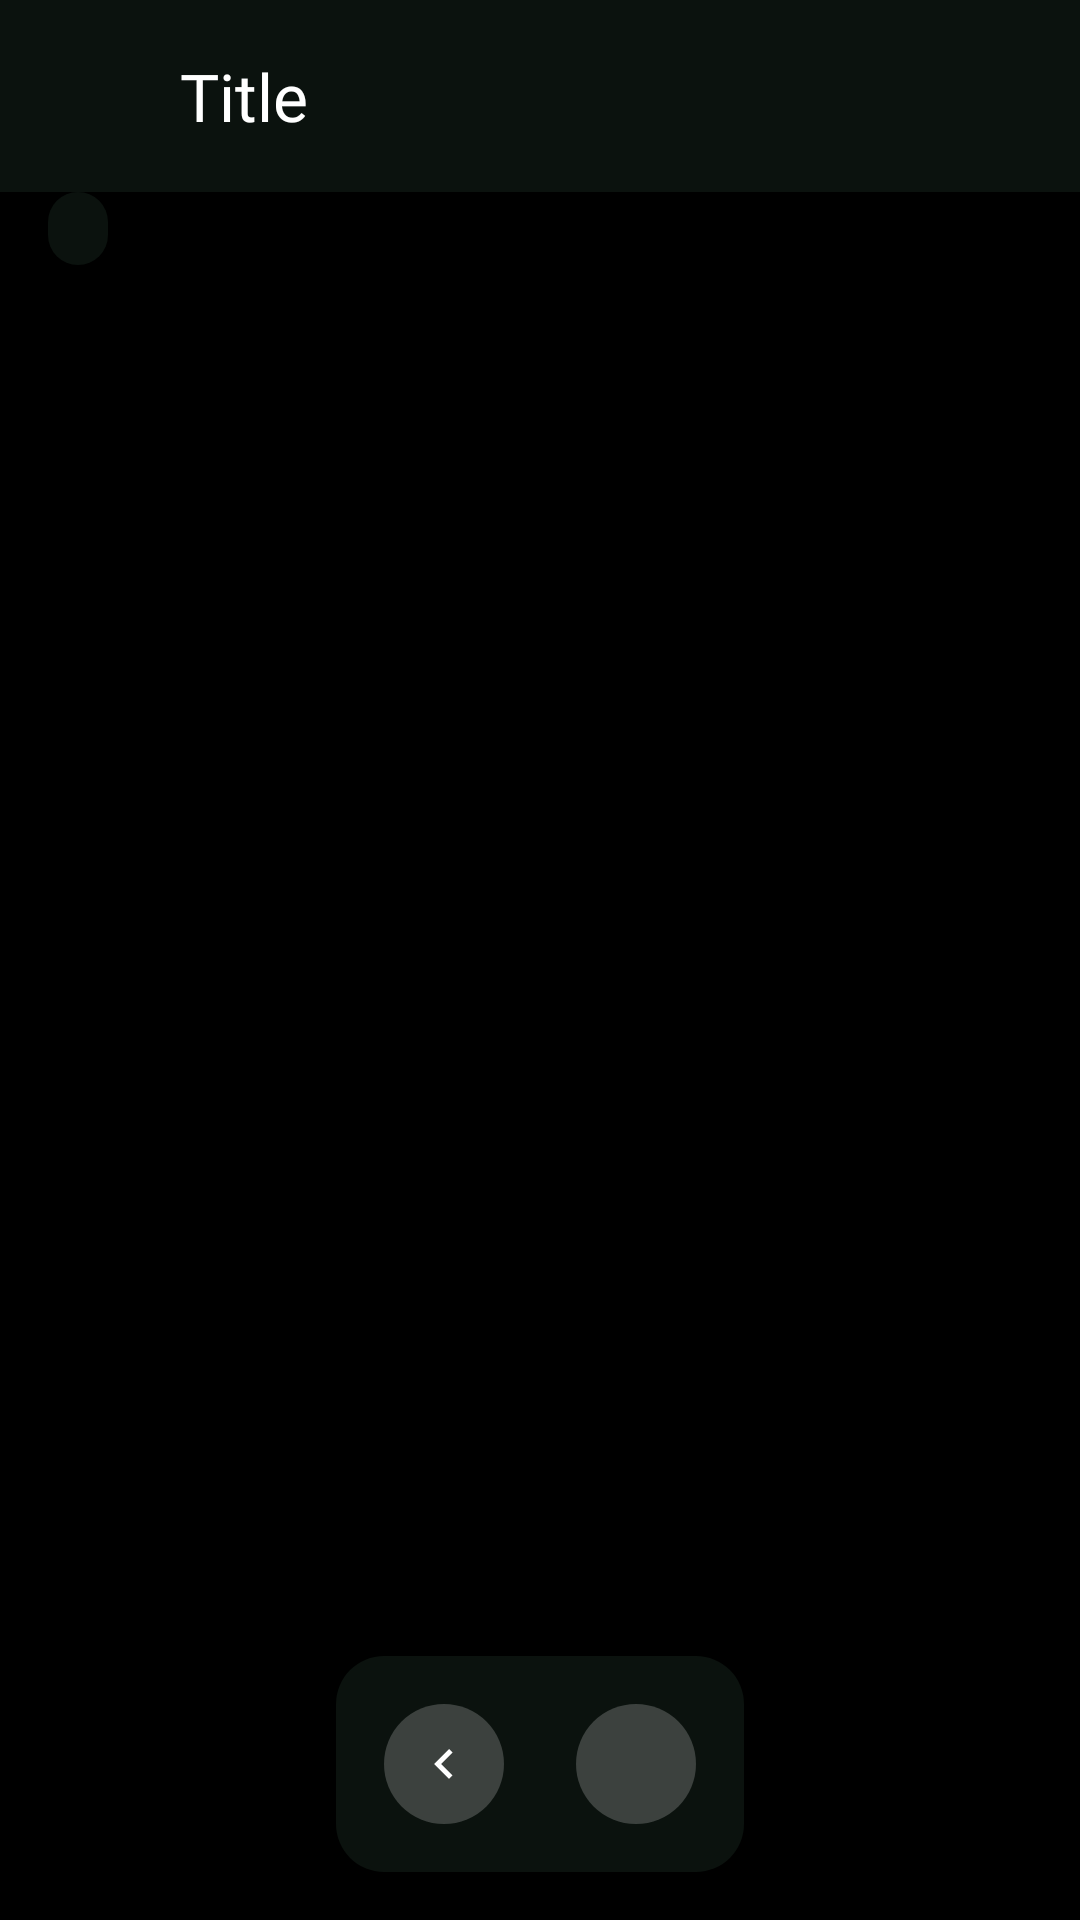

Icon click points for this 1080x1920 phone screenshot, format (x=x, y=y):
Previous photo: (x=444, y=1764)
